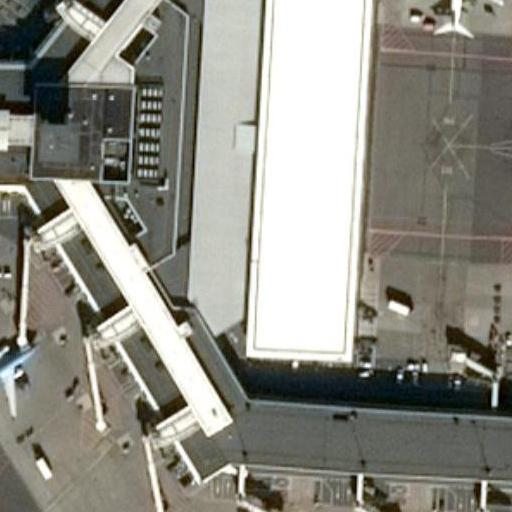Aircraft: (402, 0, 503, 43), (0, 322, 41, 418)
